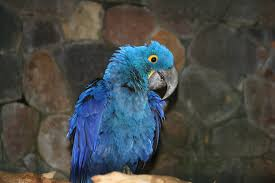guacamaya: (63, 40, 181, 183)
